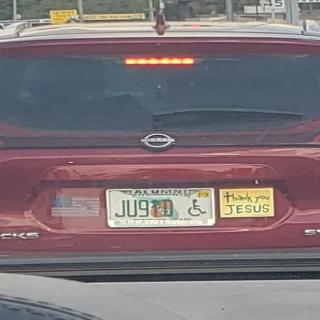license: (105, 188, 217, 229)
